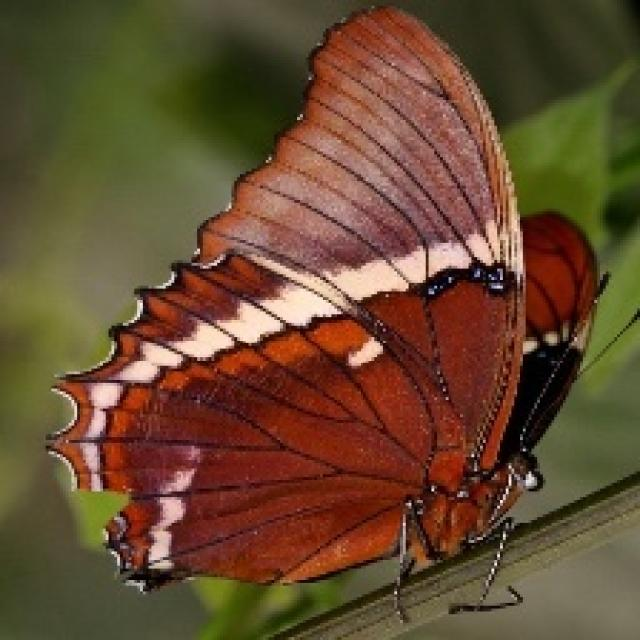butterfly: (43, 0, 637, 623)
